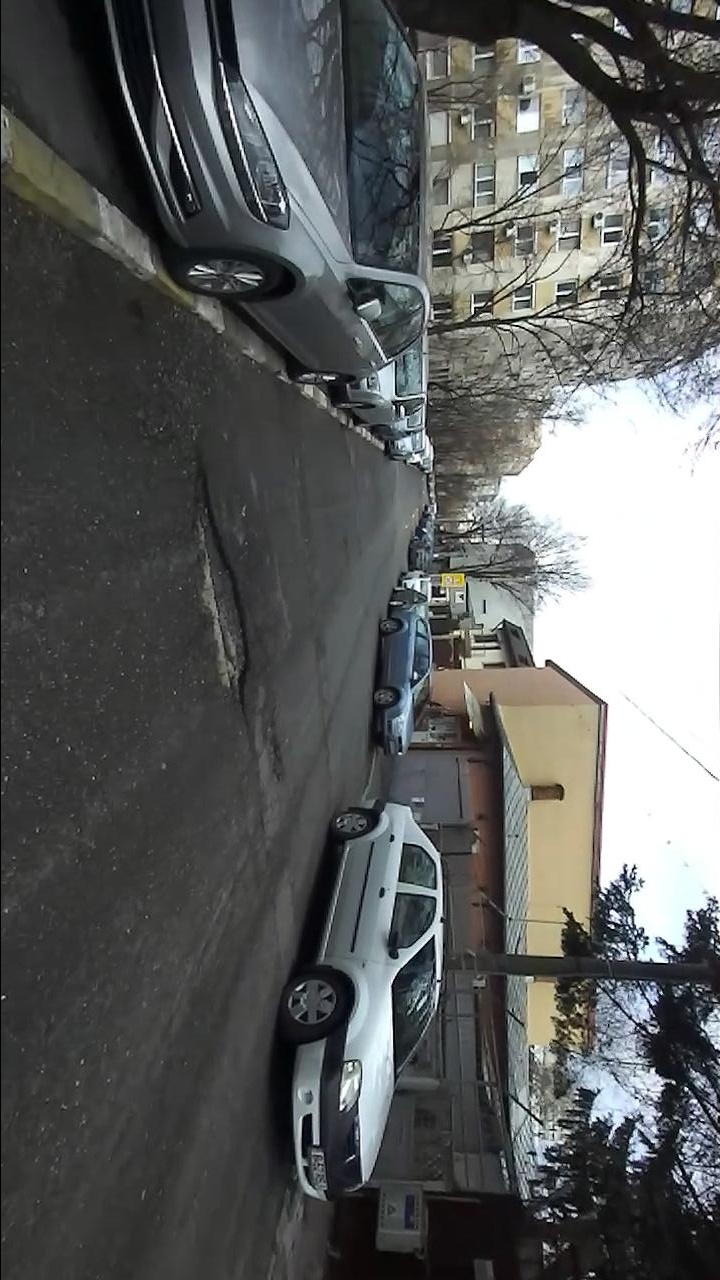pothole: (193, 458, 253, 738), (265, 709, 290, 789)
